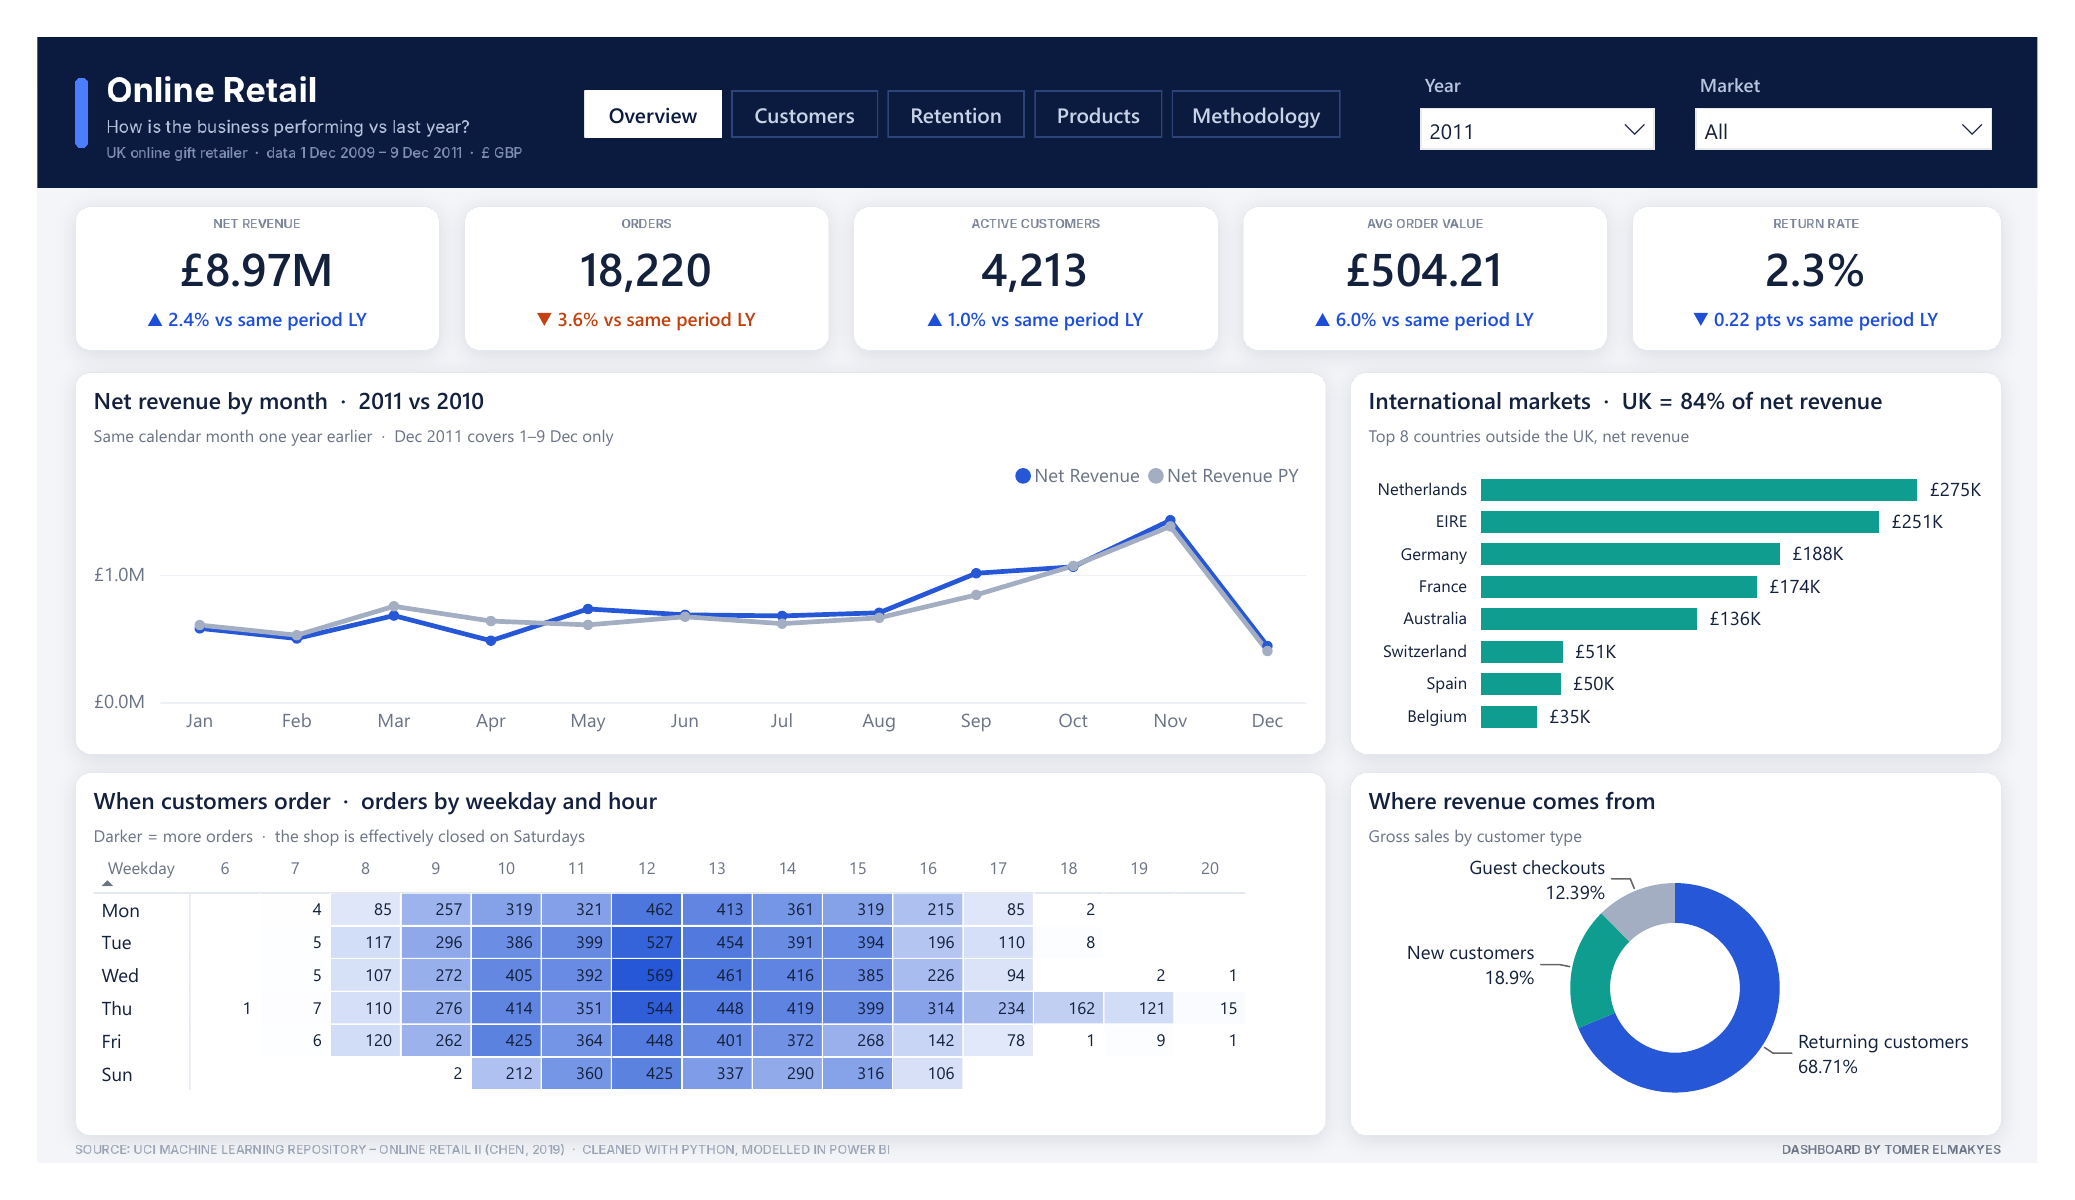

The page's visual inventory and layout, read from the dashboard file:
{"tool":"powerbi","page":{"name":"Overview","canvas":[1280,720],"ordinal":0},"visuals":[{"type":"actionButton","box":[350,34,88,30],"z":100},{"type":"actionButton","box":[444,34,94,30],"z":200},{"type":"actionButton","box":[544,34,88,30],"z":300},{"type":"actionButton","box":[638,34,82,30],"z":400},{"type":"actionButton","box":[726,34,108,30],"z":500},{"type":"slicer","fields":{"Values":["Calendar.Year"]},"box":[880,22,160,62],"z":600},{"type":"slicer","fields":{"Values":["Geography.Market"]},"box":[1056,22,200,62],"z":700},{"type":"card","fields":{"Values":["_Measures.Net Revenue"]},"box":[24,128,233,42],"z":800},{"type":"card","fields":{"Values":["_Measures.Net Revenue vs PY"]},"box":[24,172,233,22],"z":900},{"type":"card","fields":{"Values":["_Measures.Orders"]},"box":[273,128,233,42],"z":1000},{"type":"card","fields":{"Values":["_Measures.Orders vs PY"]},"box":[273,172,233,22],"z":1100},{"type":"card","fields":{"Values":["_Measures.Active Customers"]},"box":[522,128,233,42],"z":1200},{"type":"card","fields":{"Values":["_Measures.Active Customers vs PY"]},"box":[522,172,233,22],"z":1300},{"type":"card","fields":{"Values":["_Measures.Avg Order Value"]},"box":[771,128,233,42],"z":1400},{"type":"card","fields":{"Values":["_Measures.Avg Order Value vs PY"]},"box":[771,172,233,22],"z":1500},{"type":"card","fields":{"Values":["_Measures.Return Rate"]},"box":[1020,128,236,42],"z":1600},{"type":"card","fields":{"Values":["_Measures.Return Rate vs PY"]},"box":[1020,172,236,22],"z":1700},{"type":"lineChart","fields":{"Category":["Calendar.Month"],"Y":["_Measures.Net Revenue","_Measures.Net Revenue PY"]},"box":[24,214,800,244],"z":1800},{"type":"clusteredBarChart","fields":{"Category":["Geography.Country"],"Y":["_Measures.Top 8 International"]},"box":[840,214,416,244],"z":1900},{"type":"pivotTable","title":"When customers order  ·  orders by weekday and hour","fields":{"Rows":["Calendar.Weekday"],"Columns":["Sales.Hour"],"Values":["_Measures.Orders"]},"box":[24,470,800,232],"z":2000},{"type":"donutChart","title":"Where revenue comes from","fields":{"Y":["_Measures.Returning customers","_Measures.New customers","_Measures.Guest checkouts"]},"box":[840,470,416,232],"z":2100}]}

Visuals, with their boxes on the page's 1280x720 design canvas (x1, y1, x2, y2). These are canvas units, not pixel positions in the 2075x1200 screenshot, which may show the page scaled, cropped or inside an application window:
actionButton: (left=350, top=34, right=438, bottom=64)
actionButton: (left=444, top=34, right=538, bottom=64)
actionButton: (left=544, top=34, right=632, bottom=64)
actionButton: (left=638, top=34, right=720, bottom=64)
actionButton: (left=726, top=34, right=834, bottom=64)
slicer - Calendar.Year: (left=880, top=22, right=1040, bottom=84)
slicer - Geography.Market: (left=1056, top=22, right=1256, bottom=84)
card - _Measures.Net Revenue: (left=24, top=128, right=257, bottom=170)
card - _Measures.Net Revenue vs PY: (left=24, top=172, right=257, bottom=194)
card - _Measures.Orders: (left=273, top=128, right=506, bottom=170)
card - _Measures.Orders vs PY: (left=273, top=172, right=506, bottom=194)
card - _Measures.Active Customers: (left=522, top=128, right=755, bottom=170)
card - _Measures.Active Customers vs PY: (left=522, top=172, right=755, bottom=194)
card - _Measures.Avg Order Value: (left=771, top=128, right=1004, bottom=170)
card - _Measures.Avg Order Value vs PY: (left=771, top=172, right=1004, bottom=194)
card - _Measures.Return Rate: (left=1020, top=128, right=1256, bottom=170)
card - _Measures.Return Rate vs PY: (left=1020, top=172, right=1256, bottom=194)
lineChart - Calendar.Month x _Measures.Net Revenue: (left=24, top=214, right=824, bottom=458)
clusteredBarChart - Geography.Country x _Measures.Top 8 International: (left=840, top=214, right=1256, bottom=458)
"When customers order  ·  orders by weekday and hour" pivotTable: (left=24, top=470, right=824, bottom=702)
"Where revenue comes from" donutChart: (left=840, top=470, right=1256, bottom=702)
